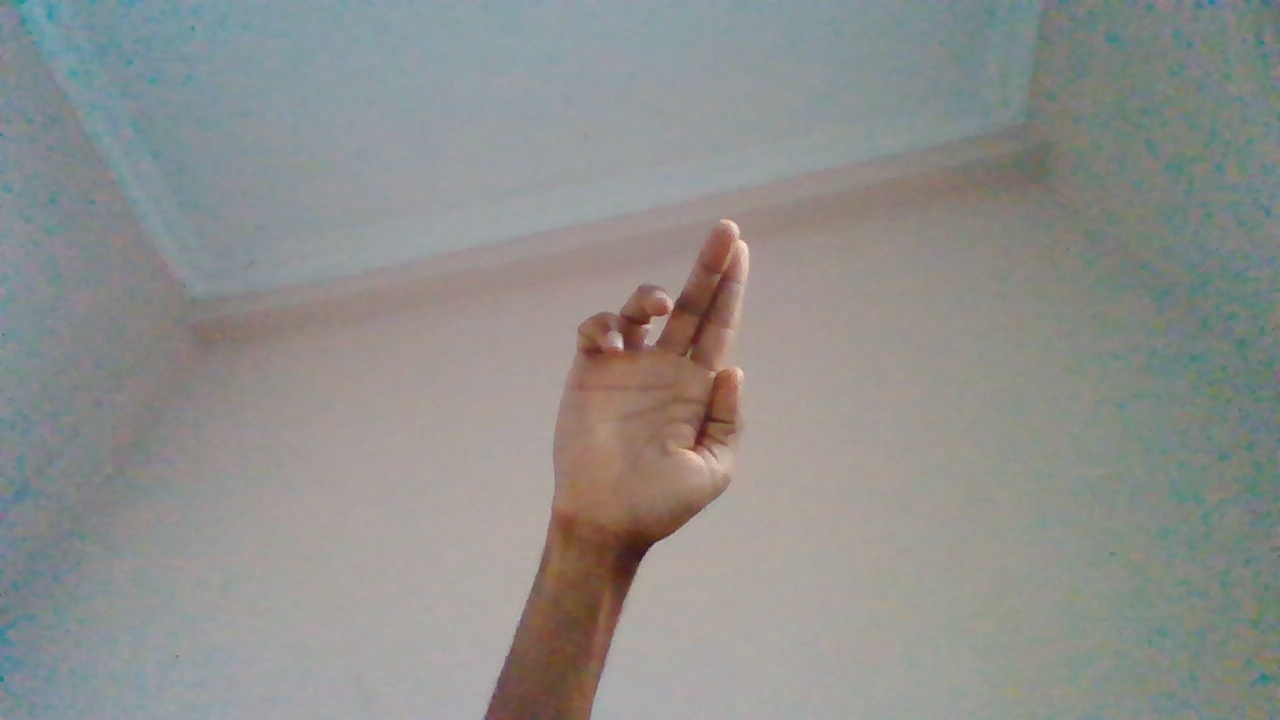gne: (551, 219, 748, 583)
